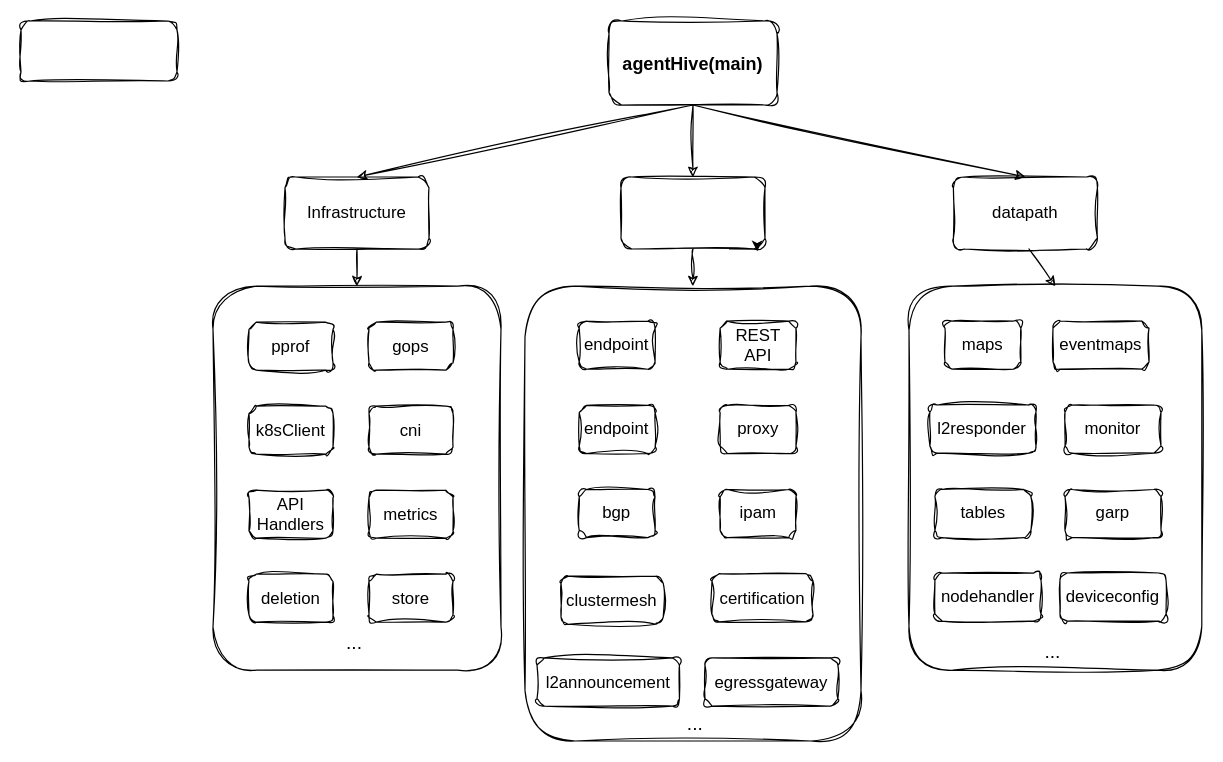
Some shapes in this 1223 by 762 pixel diagram are drawn without their labels. The shapes that lost their labels are listed below. From the top down, each one's box as (x1, y1, x2, y2) in pixels, then its label:
(20, 20, 177, 81): Cilium Agent
(620, 176, 765, 249): ControlPlane
